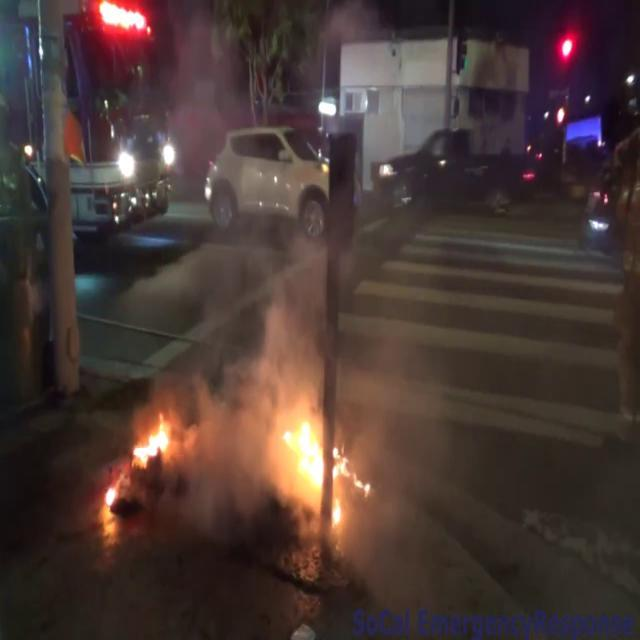Fire: (278, 397, 364, 521), (128, 404, 180, 474)
Smoke: (152, 4, 333, 413)
